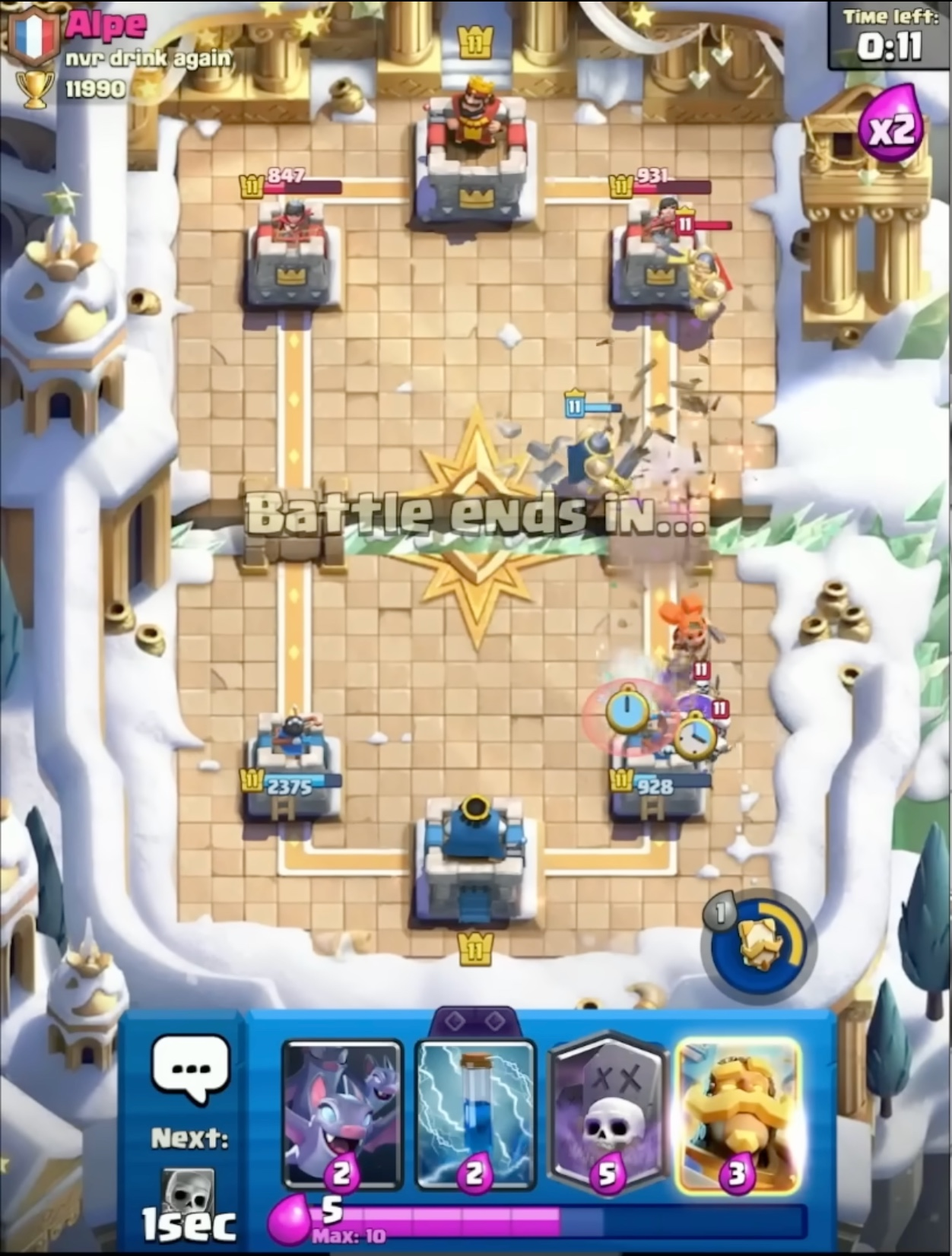hero-knight: (673, 204, 735, 334)
skeleton: (703, 696, 740, 750), (687, 659, 721, 702)
